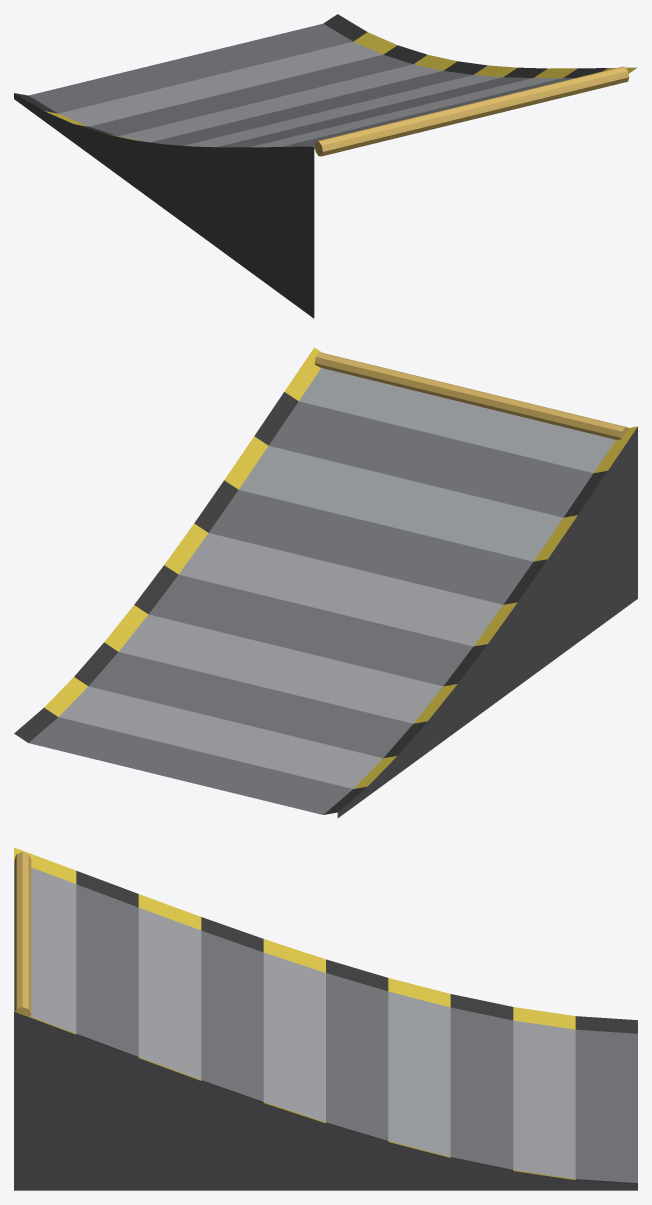
File: rn2-fabrica-ramp.glb
3 renders of one model, top to bottom at view 1: azimuth 30°, elevation 25°; view 2: azimuth 150°, elevation 25°; view 3: azimuth 270°, elevation 25°, orthographic. The views are drawn at different scales.
Parts seen in each view (by area): view 1: rn2_fabrica_ramp_body, rn2_fabrica_ramp_glow; view 2: rn2_fabrica_ramp_body, rn2_fabrica_ramp_glow; view 3: rn2_fabrica_ramp_body, rn2_fabrica_ramp_glow.
Boxes of the visible parts, x1,y1,x2,y2 form: rn2_fabrica_ramp_body: [14, 14, 637, 318]; rn2_fabrica_ramp_glow: [314, 66, 629, 156]; rn2_fabrica_ramp_body: [14, 347, 637, 817]; rn2_fabrica_ramp_glow: [314, 352, 628, 439]; rn2_fabrica_ramp_body: [14, 847, 637, 1190]; rn2_fabrica_ramp_glow: [14, 852, 31, 1016].
Size of the model in its own units: 2.24 by 1.14 by 3.6.
